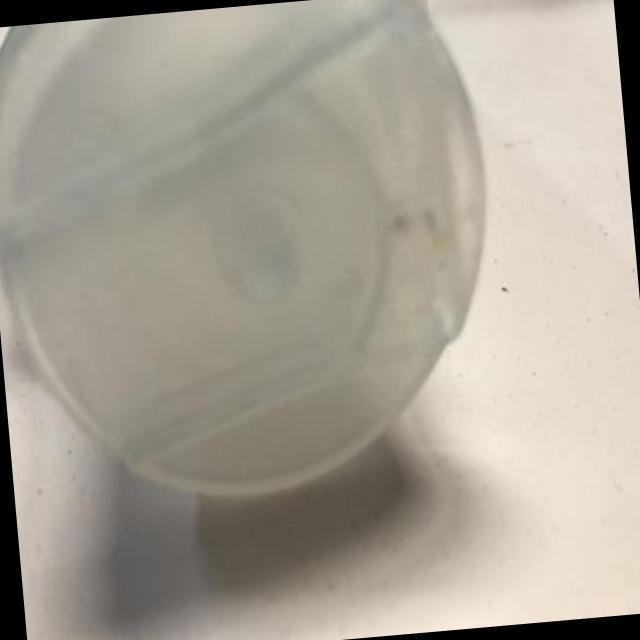Trash: (0, 0, 512, 514)
